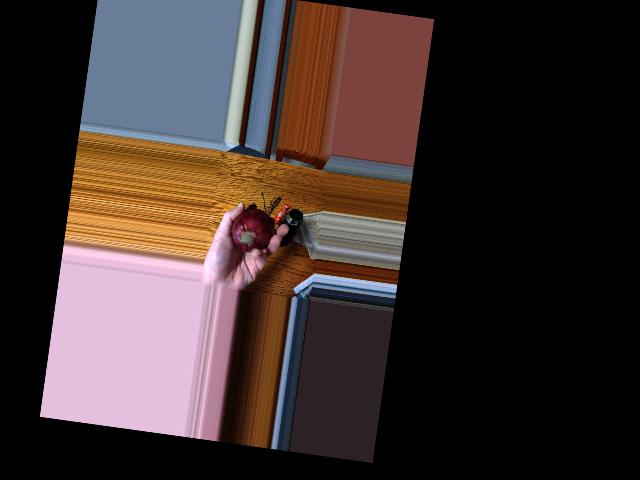onion: (227, 208, 269, 259)
